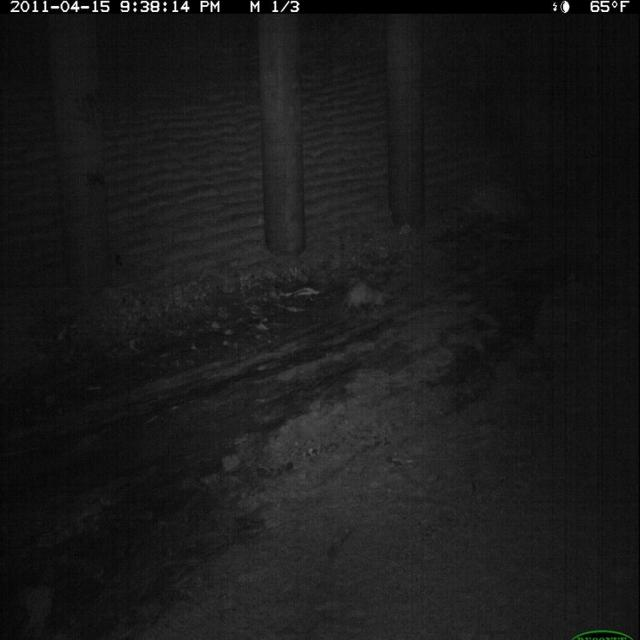opossum: (337, 277, 388, 321)
